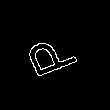P_SW: (9, 32, 74, 86)
